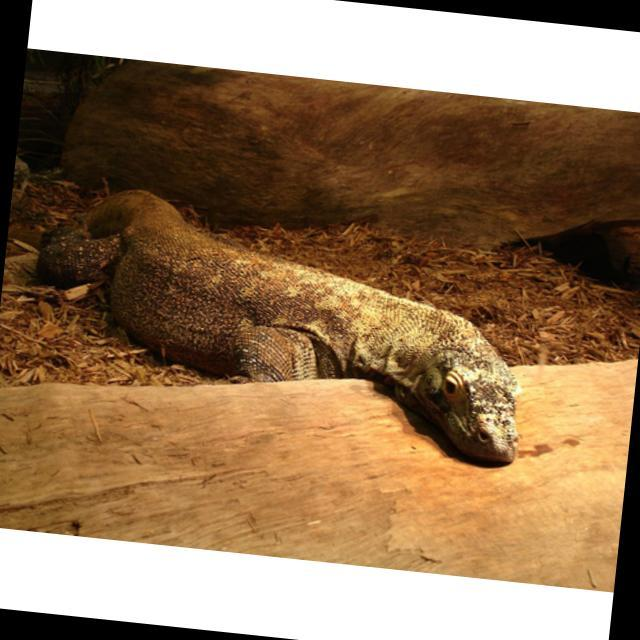KomodoDragon: (22, 177, 548, 468)
